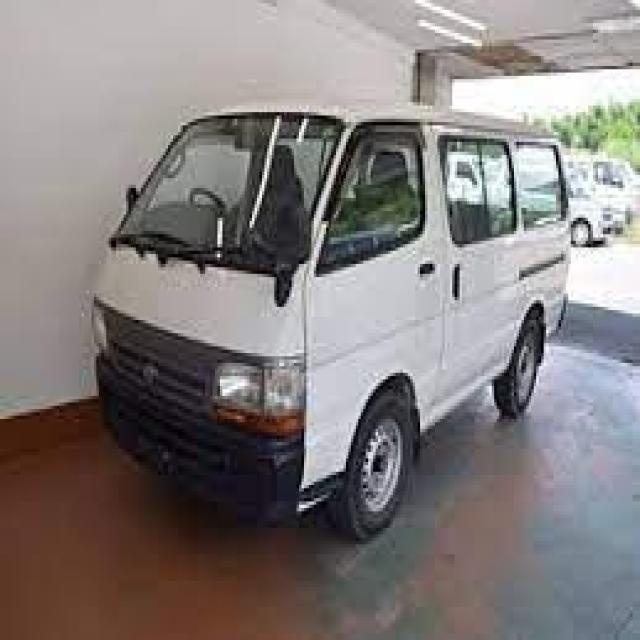Van: (89, 99, 576, 538)
